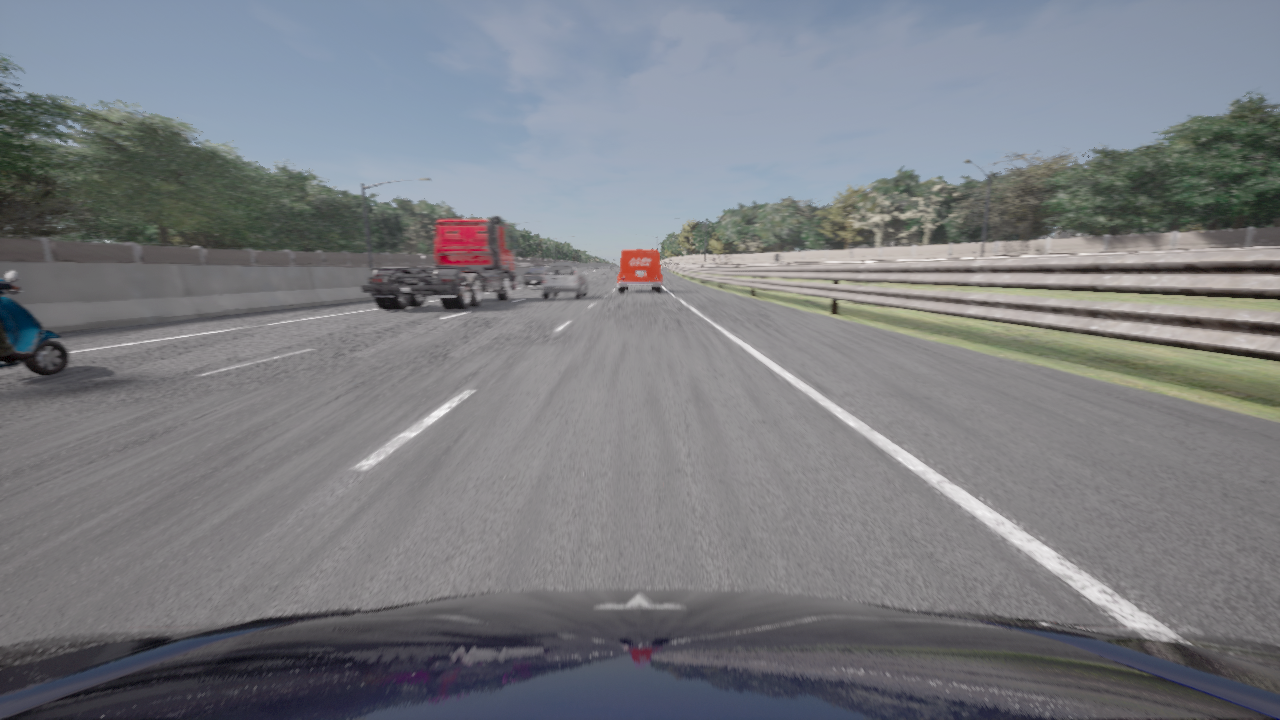cyclist: (0, 588, 1279, 719), (362, 215, 518, 309), (0, 270, 69, 375), (618, 250, 662, 291), (542, 263, 587, 298), (523, 267, 547, 288)
